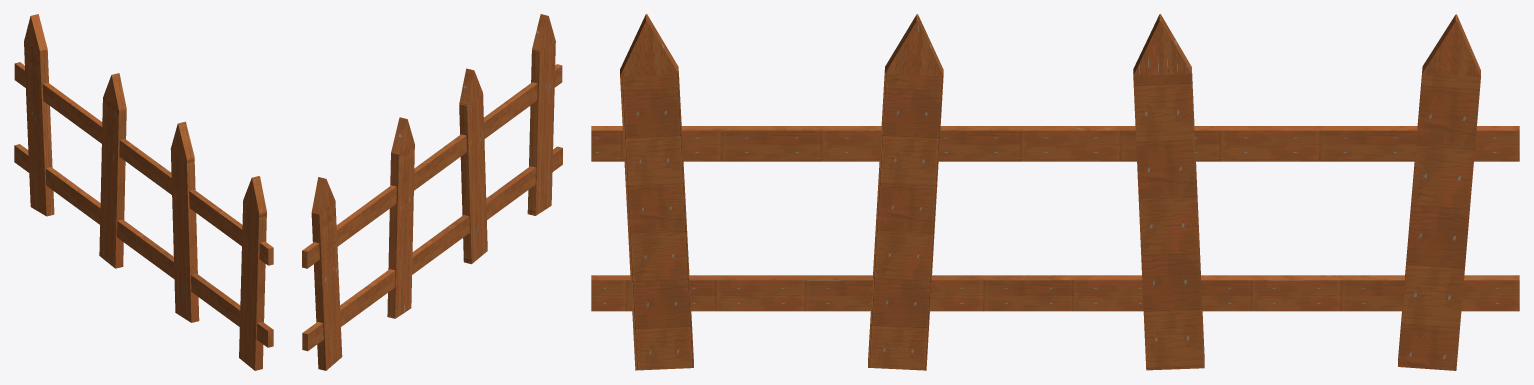
The model's file is pager.p.fbx.
The picture shows the model from 3 angles, left to right: view 1: azimuth 30°, elevation 25°; view 2: azimuth 150°, elevation 25°; view 3: azimuth 270°, elevation 25°; orthographic projection. The views are drawn at different scales.
Visible parts, largest first — view 1: Plane.005, Plane.003, Plane.004, Plane.001, Plane.002, Plane; view 2: Plane.005, Plane.002, Plane, Plane.004, Plane.001, Plane.003; view 3: Plane.005, Plane.004, Plane.003, Plane.001, Plane, Plane.002.
Boxes of the visible parts, x1,y1,x2,y2 form: Plane.005: (14,144,273,347); Plane.003: (24,14,54,216); Plane.004: (14,62,273,265); Plane.001: (170,121,199,322); Plane.002: (99,73,126,268); Plane: (239,176,266,370); Plane.005: (302,146,562,351); Plane.002: (387,117,414,318); Plane: (527,14,555,215); Plane.004: (302,64,562,268); Plane.001: (459,68,487,264); Plane.003: (311,177,342,370); Plane.005: (591,275,1519,311); Plane.004: (591,126,1519,161); Plane.003: (1398,14,1480,370); Plane.001: (868,14,943,370); Plane: (620,14,693,370); Plane.002: (1133,14,1204,370).
Bounding box in the file's own units: 445 × 10385 × 24961.
Materials: 6 (6 with a texture image).
